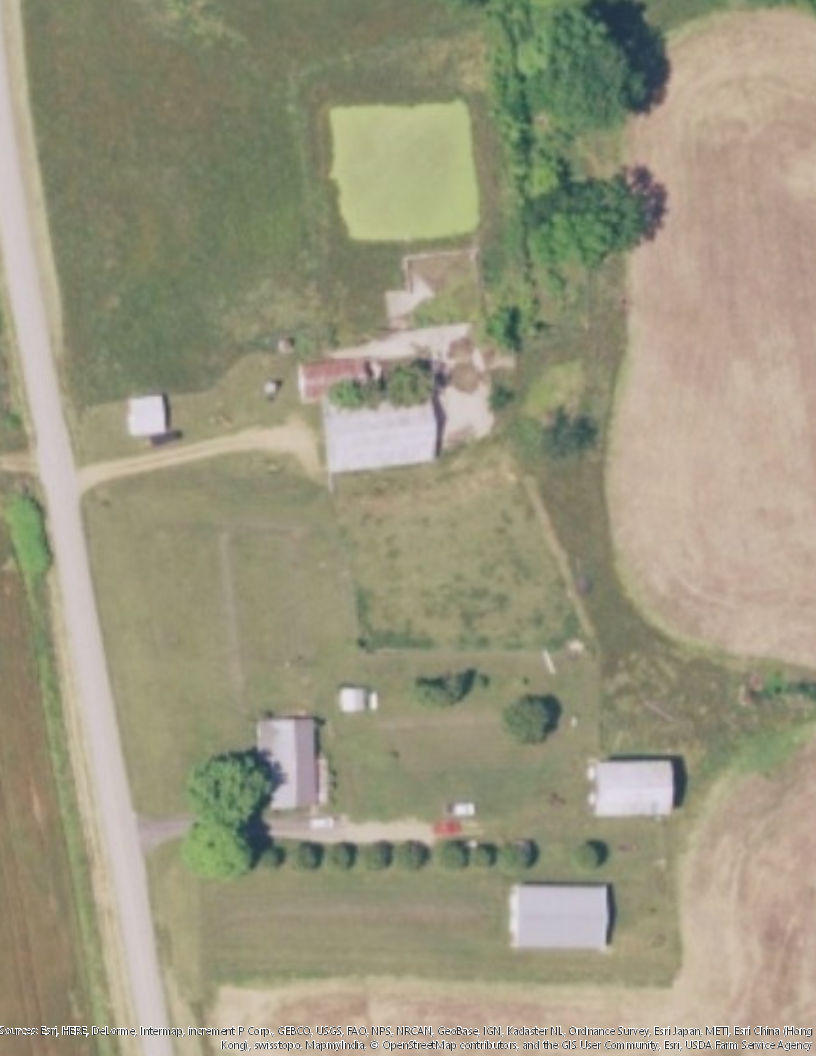cafo: (292, 353, 452, 471)
